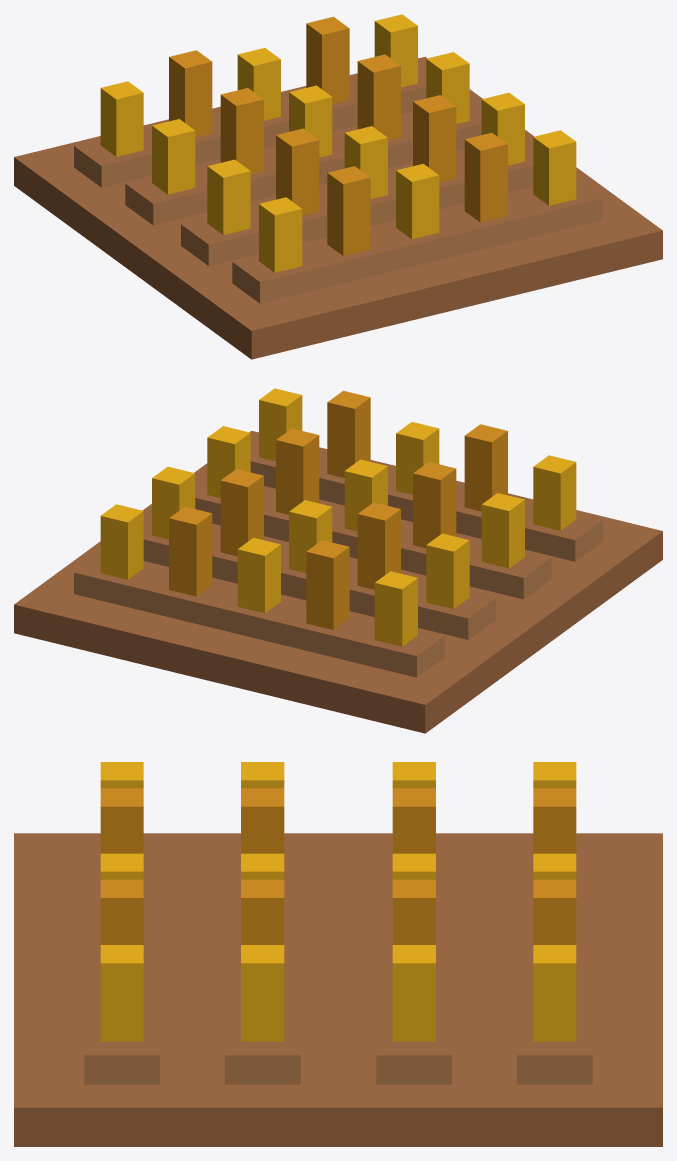
The model's file is field_t1_v1.glb.
3 views of the same model, one above another, from view 1: azimuth 30°, elevation 25°; view 2: azimuth 150°, elevation 25°; view 3: azimuth 270°, elevation 25° (orthographic). The views are drawn at different scales.
Parts seen in each view (by area): view 1: field_t1_v1; view 2: field_t1_v1; view 3: field_t1_v1.
Part boxes in pixels (x1,y1,x2,y2): field_t1_v1: (14, 14, 662, 359); field_t1_v1: (14, 388, 662, 733); field_t1_v1: (14, 762, 662, 1146).
Size of the model in its own units: 0.6 by 0.17 by 0.6.
1 material, 1 textured.
